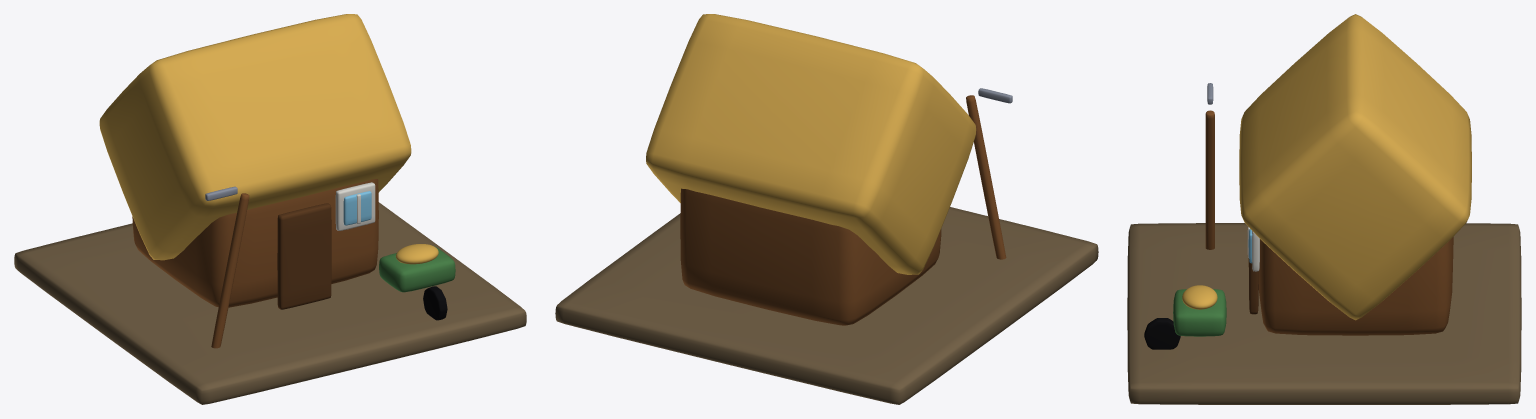
File: Knechthuette.fbx
3 views of the same model, side by side, from view 1: azimuth 30°, elevation 25°; view 2: azimuth 150°, elevation 25°; view 3: azimuth 270°, elevation 25° (orthographic). The views are drawn at different scales.
Visible parts, largest first — view 1: Knechthuette; view 2: Knechthuette; view 3: Knechthuette.
Part boxes in pixels (left/top/right/bottom): Knechthuette: left=14, top=14, right=526, bottom=404; Knechthuette: left=555, top=14, right=1098, bottom=404; Knechthuette: left=1127, top=14, right=1521, bottom=404.
Bounding box in the file's own units: 1.9 × 1.4 × 1.9.
